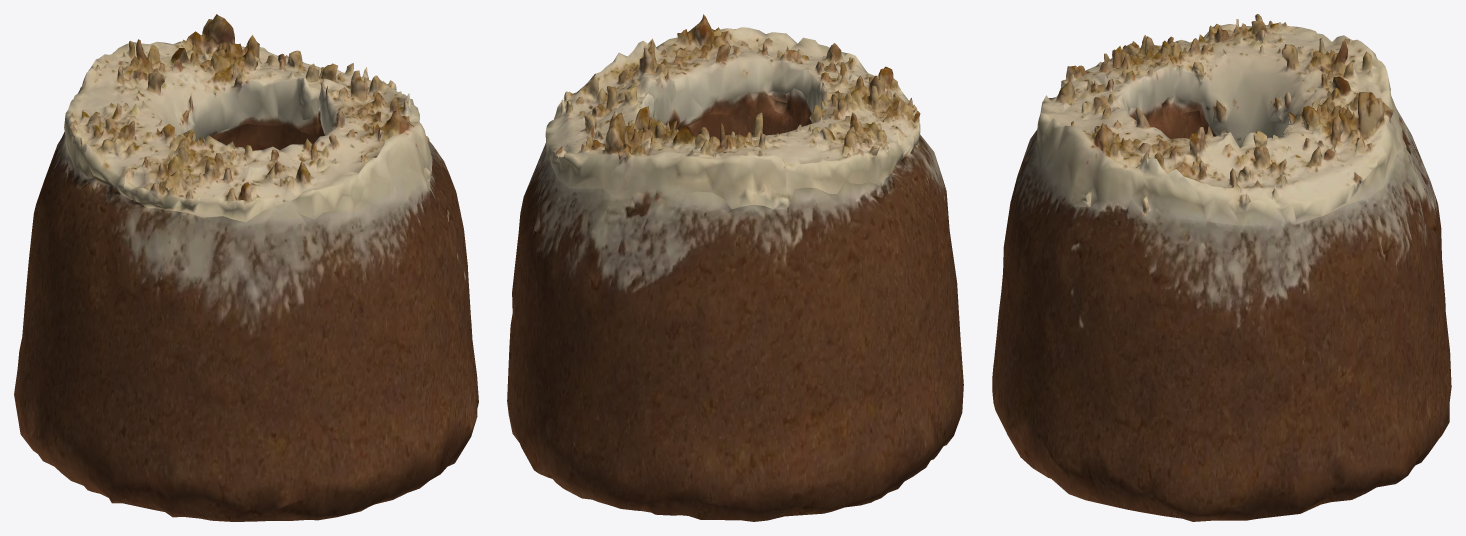
File: carrot_cake.glb
3 renders of one model, left to right at view 1: azimuth 30°, elevation 25°; view 2: azimuth 150°, elevation 25°; view 3: azimuth 270°, elevation 25°, orthographic.
Visible parts, largest first — view 1: carrot_cake.002; view 2: carrot_cake.002; view 3: carrot_cake.002.
Boxes of the visible parts, x1,y1,x2,y2 form: carrot_cake.002: (14,14,478,521); carrot_cake.002: (507,14,963,521); carrot_cake.002: (992,14,1451,521).
Size of the model in its own units: 5.22 by 4.8 by 5.22.
1 material, 1 textured.
